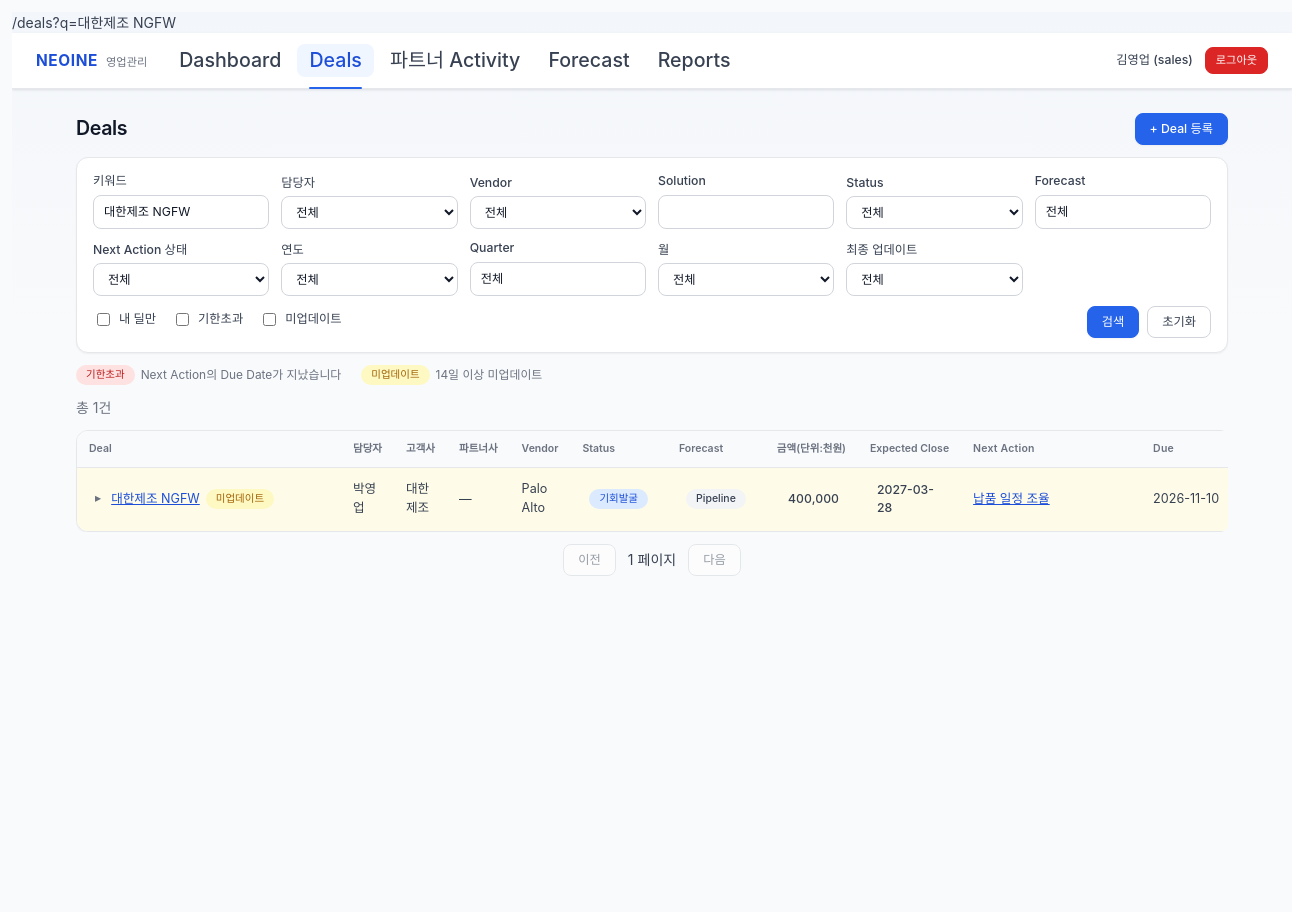
Test: 빠른 보기 (T-LIST-10) › says there is no partner in the quick view of a deal without one
Click the button named "빠른 보기" at point(98, 498), box [89,489,107,508]
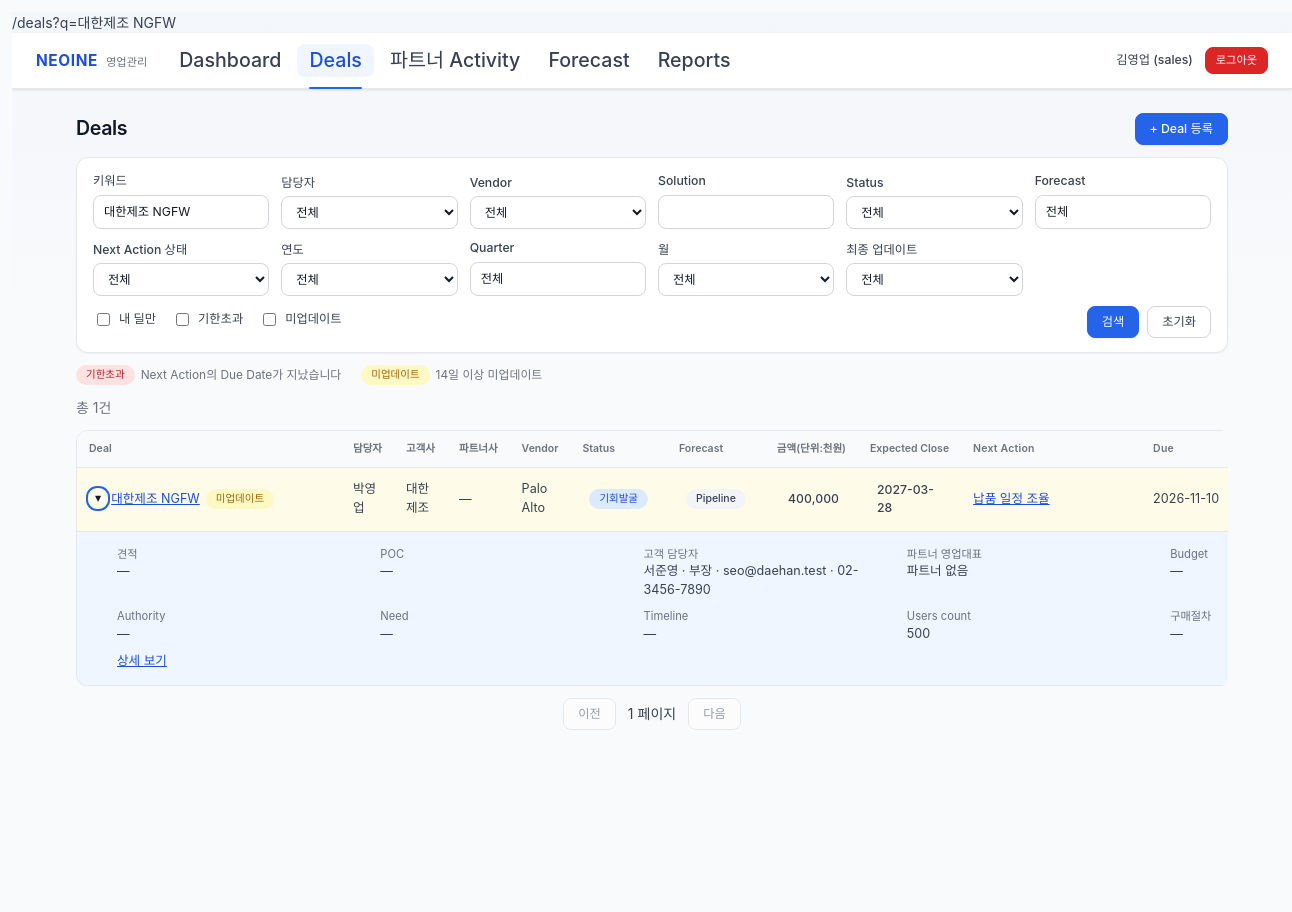
Now the text "파트너 없음" is shown, box [907,563,968,578]
